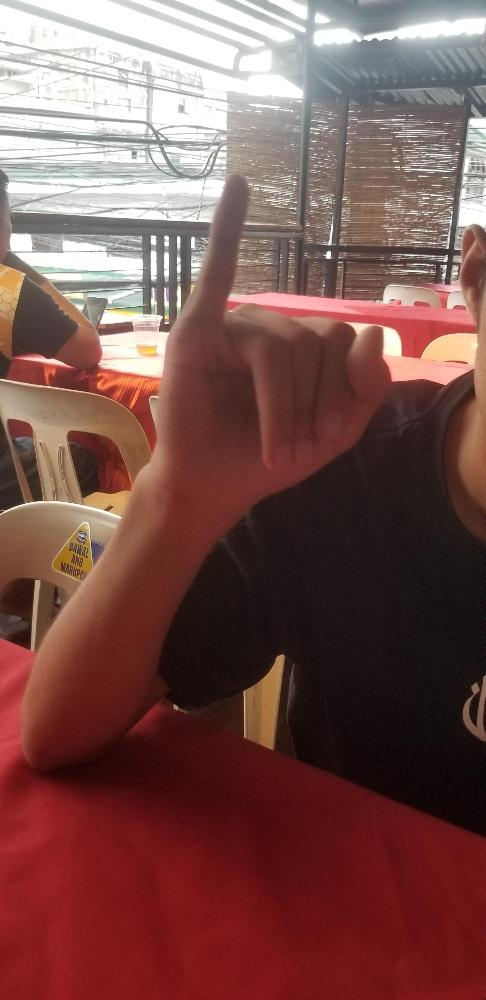i: (154, 169, 394, 518)
